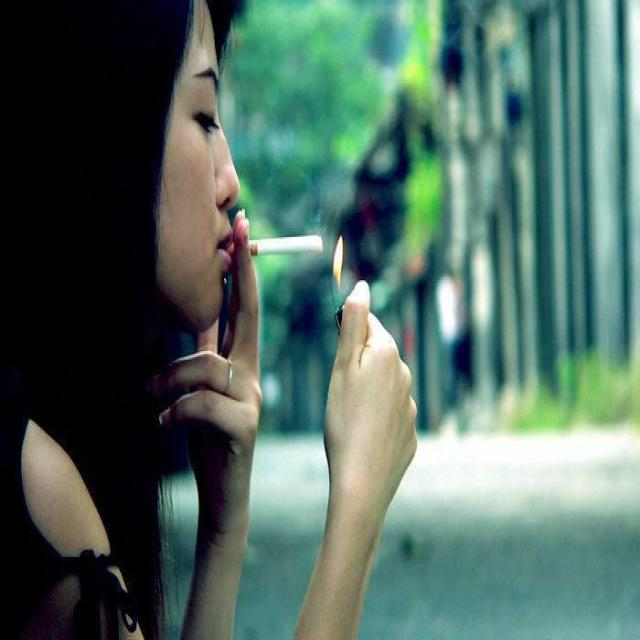smoke: (218, 217, 342, 290)
